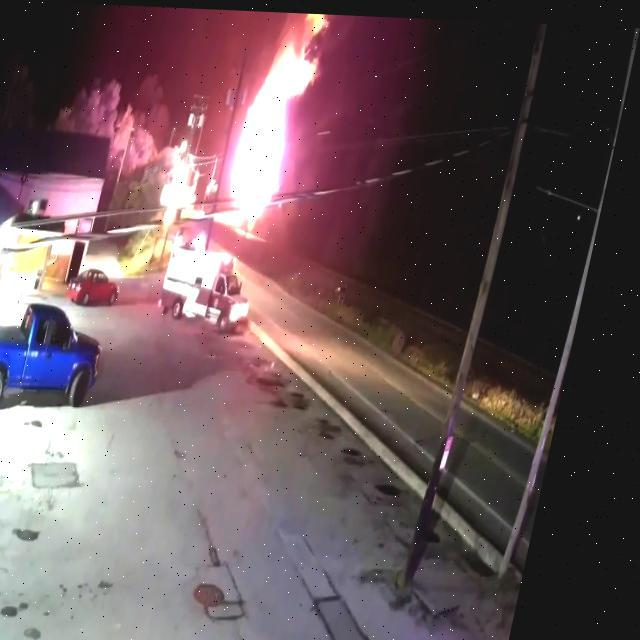Fire: (232, 34, 324, 210)
